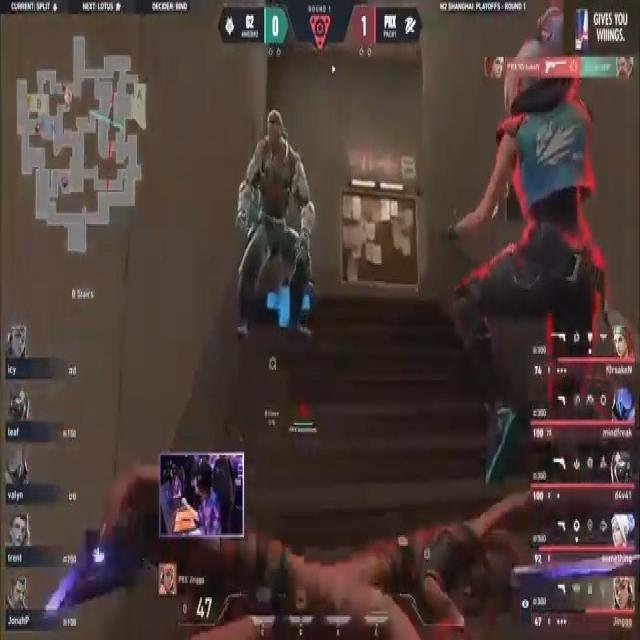ally: (234, 105, 315, 348)
enemy: (444, 34, 611, 481)
